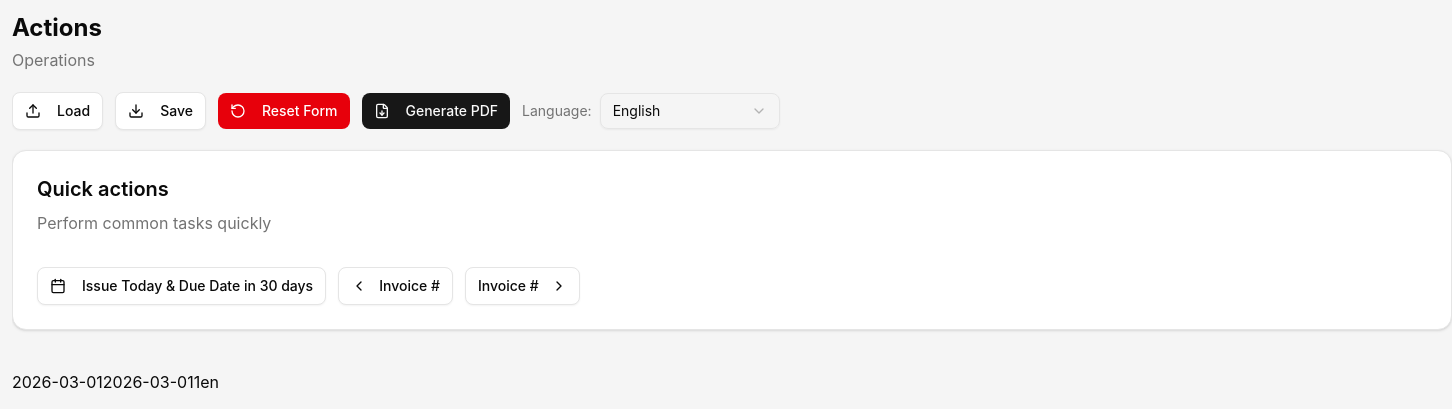
Test: Actions › increments the invoice number
The width and height of the screenshot is (1452, 409).
# Increment button is the second one (right chevron)
Click the 2nd button "Invoice #" at x=522, y=286, box x1=465 y1=267 x2=580 y2=305
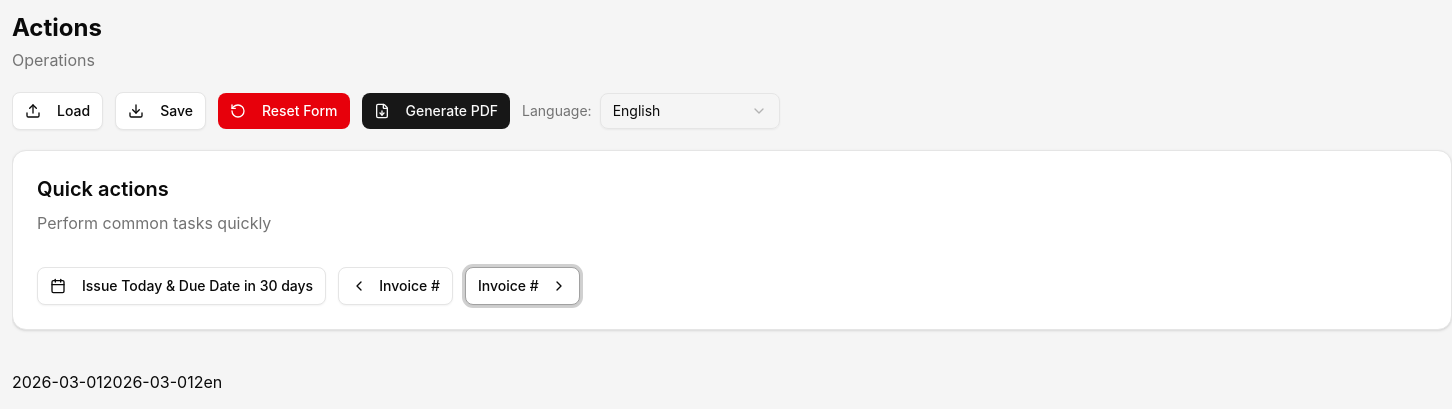
Now the text with test id "invoiceNumber" reads "2", box x1=194 y1=372 x2=204 y2=392
